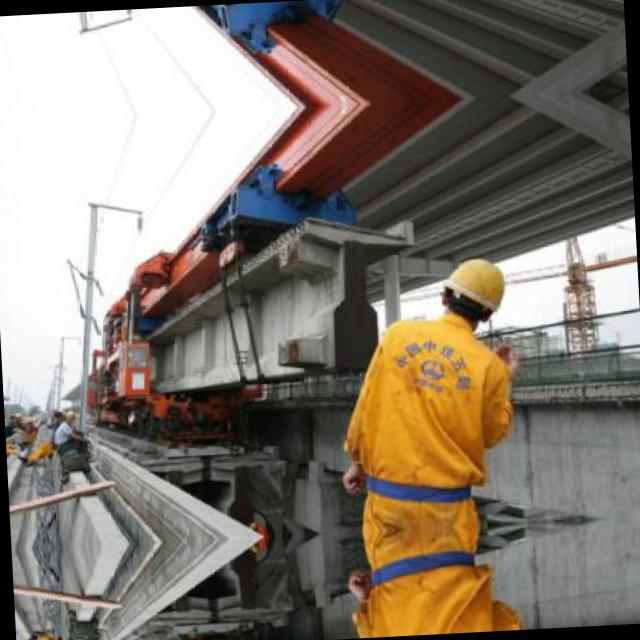helmet: (428, 246, 517, 335)
